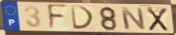3: (24, 5, 43, 29)
8: (98, 5, 118, 32)
D: (69, 5, 96, 31)
F: (47, 3, 69, 32)
N: (119, 7, 147, 31)
X: (145, 6, 170, 32)
